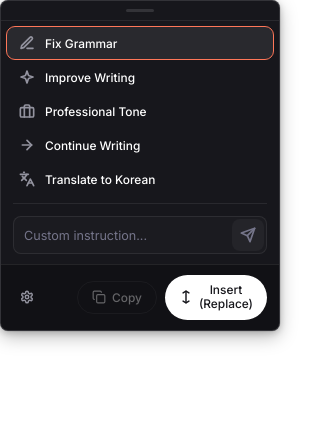
Scenario: FloatingMenu › footer actions › Insert button is disabled when there is an error
Step 1. Click the button "Fix Grammar" → (81, 43), box [7, 27, 273, 59]
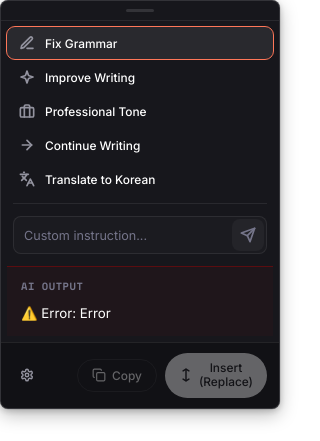
Now the button "Insert (Replace)" is disabled, box [165, 353, 267, 398]
